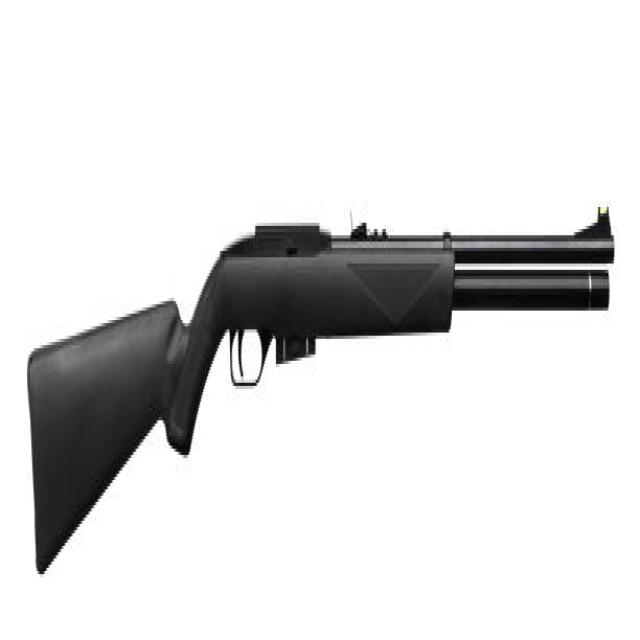rifle: (27, 189, 616, 574)
